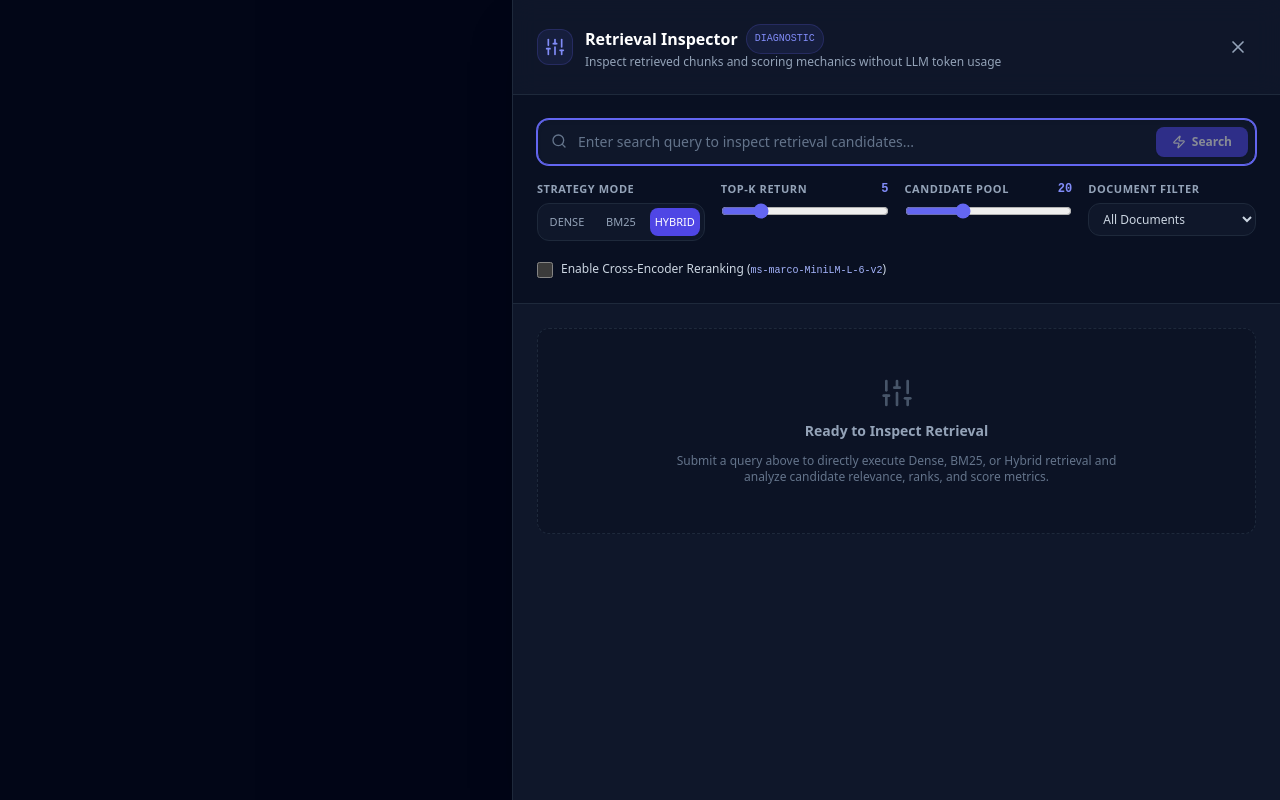
Test: Frontend Component Verification Suite › 16. renders empty results placeholder when search returns zero candidates
Type "unknown topic" into the field with placeholder "Enter search query to inspect retrieval candidates...". click: (896, 142)
box: top-left (537, 119), bottom-right (1256, 165)
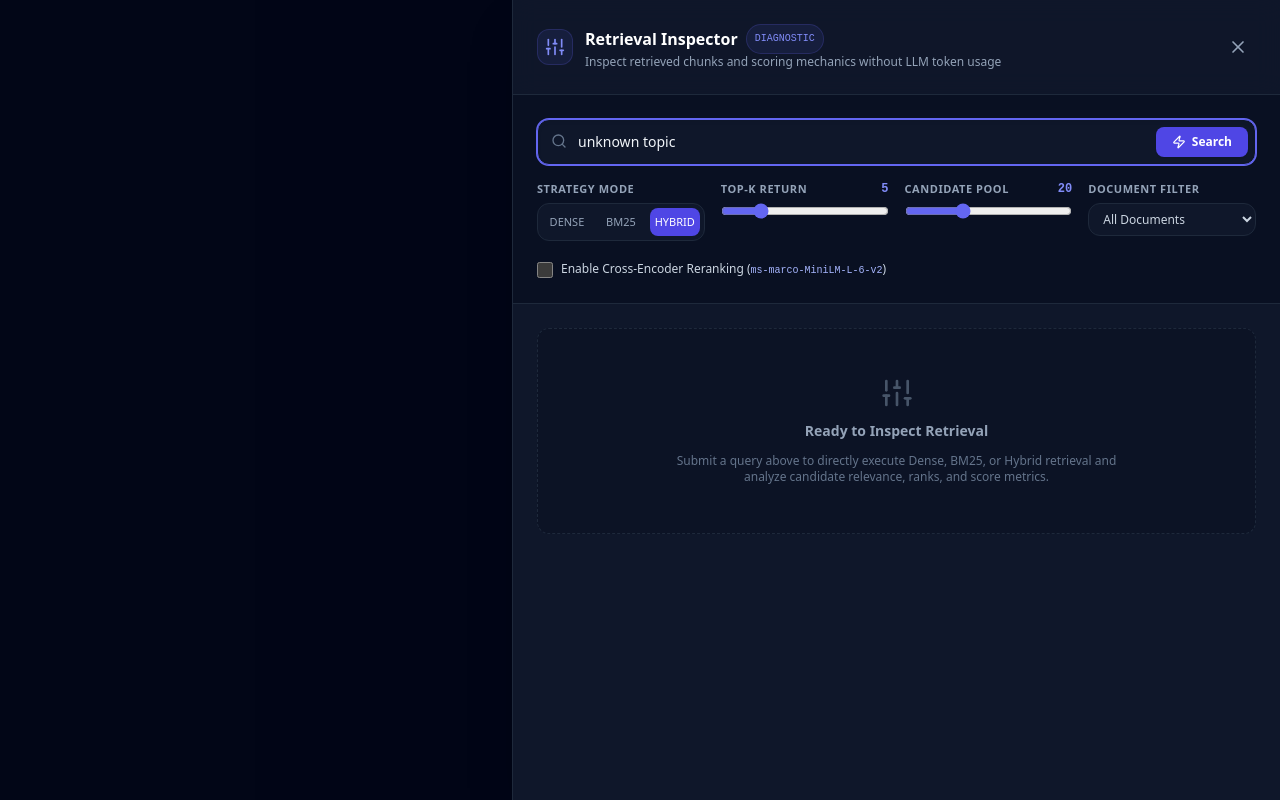
Click the button "Search". click: (1202, 142)
box: top-left (1156, 127), bottom-right (1248, 157)
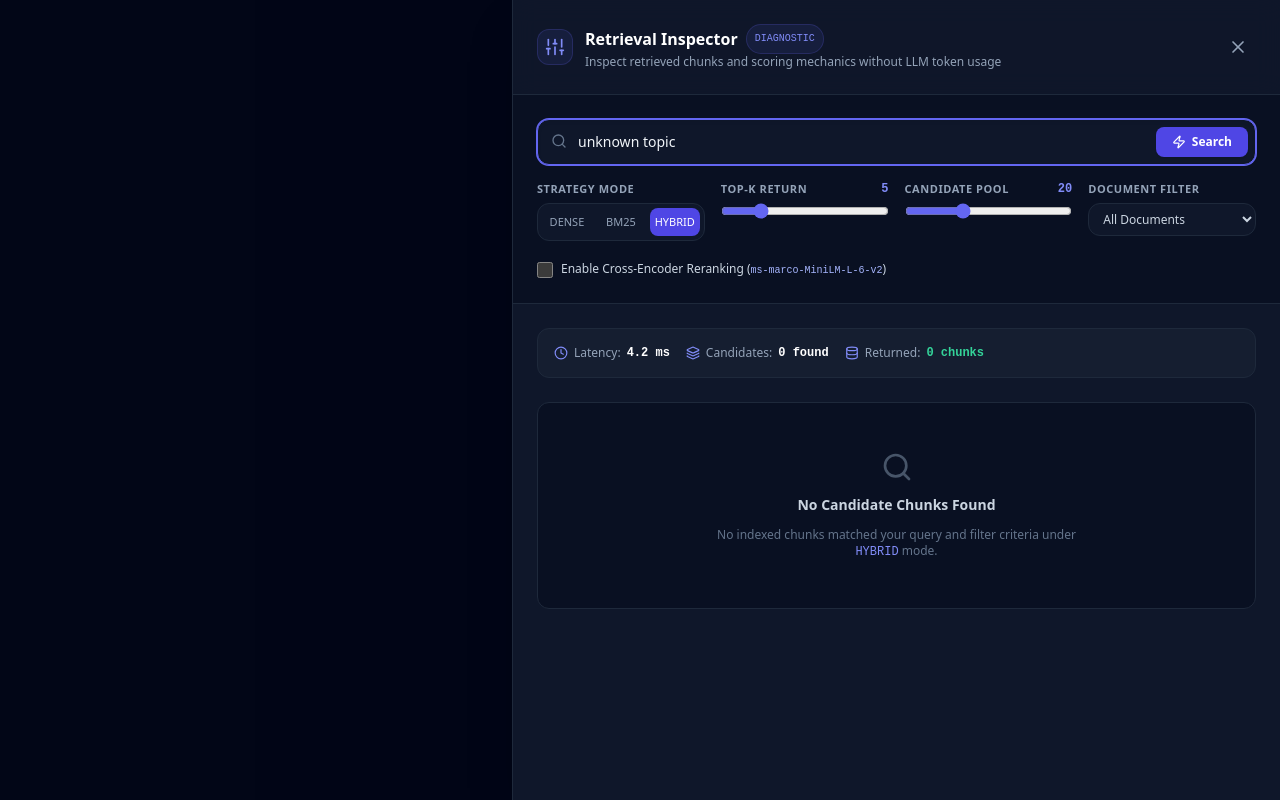
Now the heading "No Candidate Chunks Found" is shown, box top-left (797, 495), bottom-right (996, 514)
